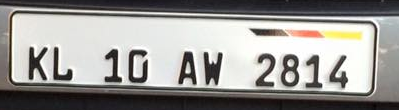0: (126, 47, 152, 83)
1: (305, 53, 326, 90), (103, 48, 124, 83)
2: (255, 53, 277, 87)
4: (327, 54, 352, 90)
8: (280, 52, 302, 87)
A: (177, 51, 201, 84)
K: (25, 45, 50, 82)
L: (51, 43, 75, 82)
W: (201, 49, 224, 87)
